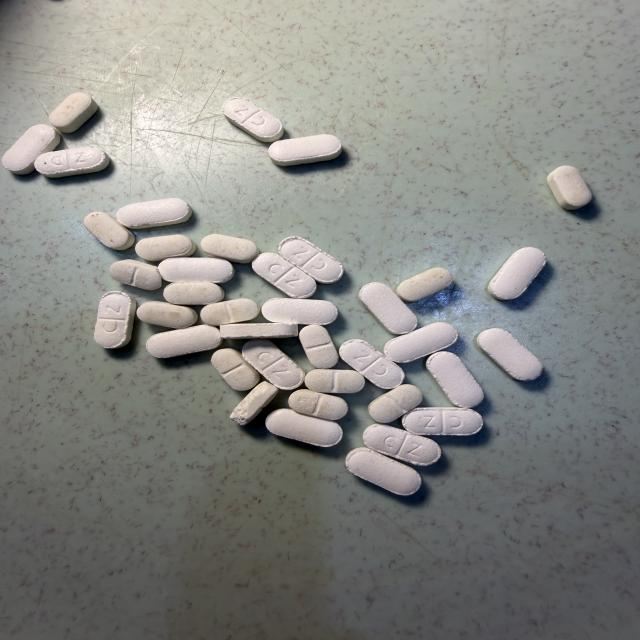pill: (346, 448, 421, 495), (476, 328, 542, 381), (340, 340, 404, 389), (363, 425, 441, 465), (427, 352, 483, 407), (488, 247, 546, 300), (243, 340, 304, 390), (384, 322, 458, 363), (359, 283, 417, 334), (279, 237, 343, 283), (266, 409, 342, 447), (252, 253, 316, 298), (2, 125, 60, 174), (223, 97, 283, 142), (146, 325, 221, 358), (94, 292, 135, 348), (402, 407, 483, 435), (269, 135, 341, 166), (35, 147, 109, 177), (117, 198, 191, 228), (262, 298, 337, 325), (230, 382, 277, 425), (369, 385, 422, 423), (84, 212, 135, 250), (212, 349, 259, 390), (49, 93, 97, 133), (158, 258, 234, 283), (547, 166, 591, 209), (397, 268, 452, 302), (299, 325, 338, 369), (289, 390, 348, 419), (201, 234, 259, 263), (137, 301, 197, 328), (201, 299, 260, 326), (135, 235, 196, 261), (110, 260, 161, 290), (305, 369, 364, 393), (164, 282, 224, 304), (220, 323, 297, 339)
